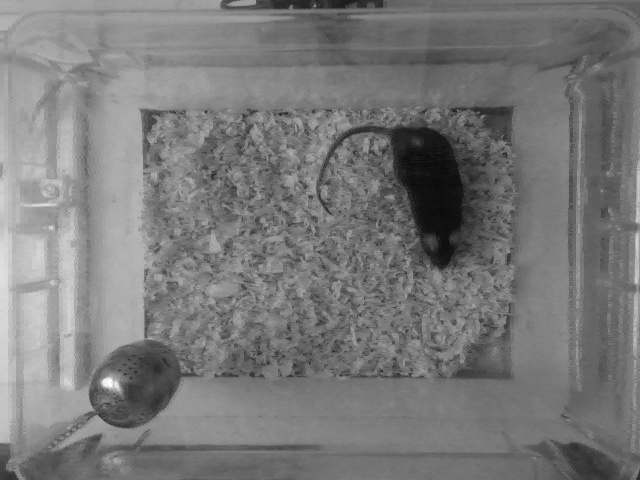mice: (316, 118, 472, 273)
